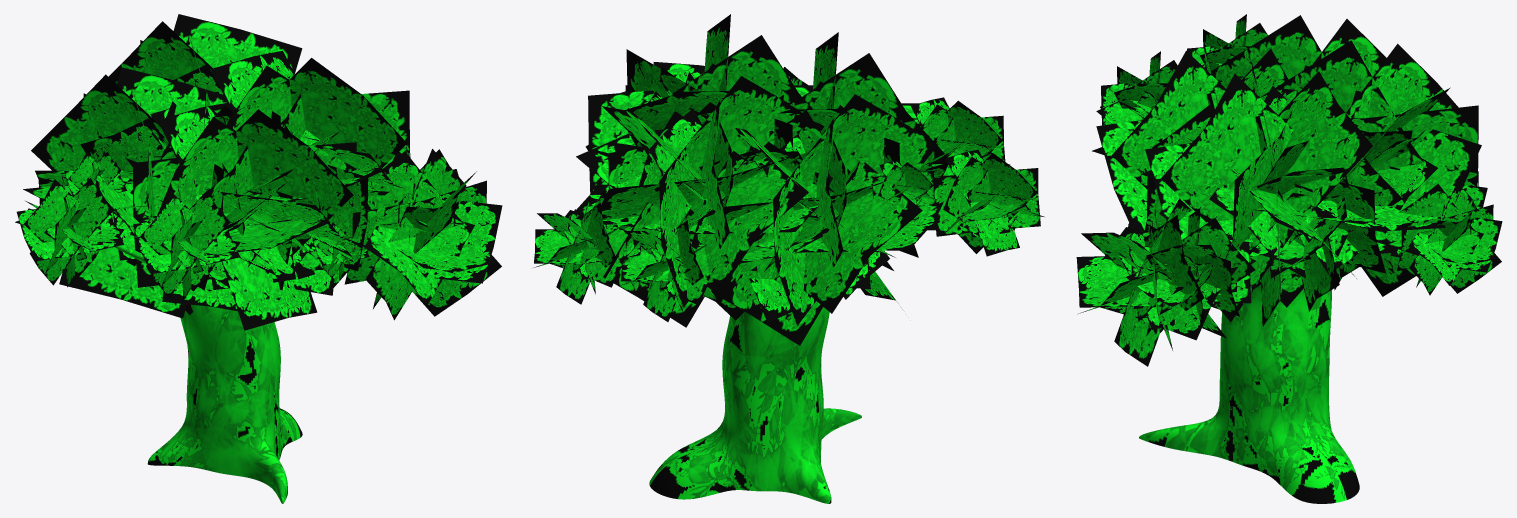
File: BigWoodsTree1.fbx
3 views of the same model, side by side, from view 1: azimuth 30°, elevation 25°; view 2: azimuth 150°, elevation 25°; view 3: azimuth 270°, elevation 25° (orthographic). The views are drawn at different scales.
Parts seen in each view (by area): view 1: Plane1672; view 2: Plane1672; view 3: Plane1672.
Part boxes in pixels (<box>): Plane1672: <box>15,14,502,503</box>; Plane1672: <box>533,14,1044,503</box>; Plane1672: <box>1076,14,1502,503</box>.
Bounding box in the file's own units: 1323 × 1212 × 1129.
Materials: 1 (1 with a texture image).
